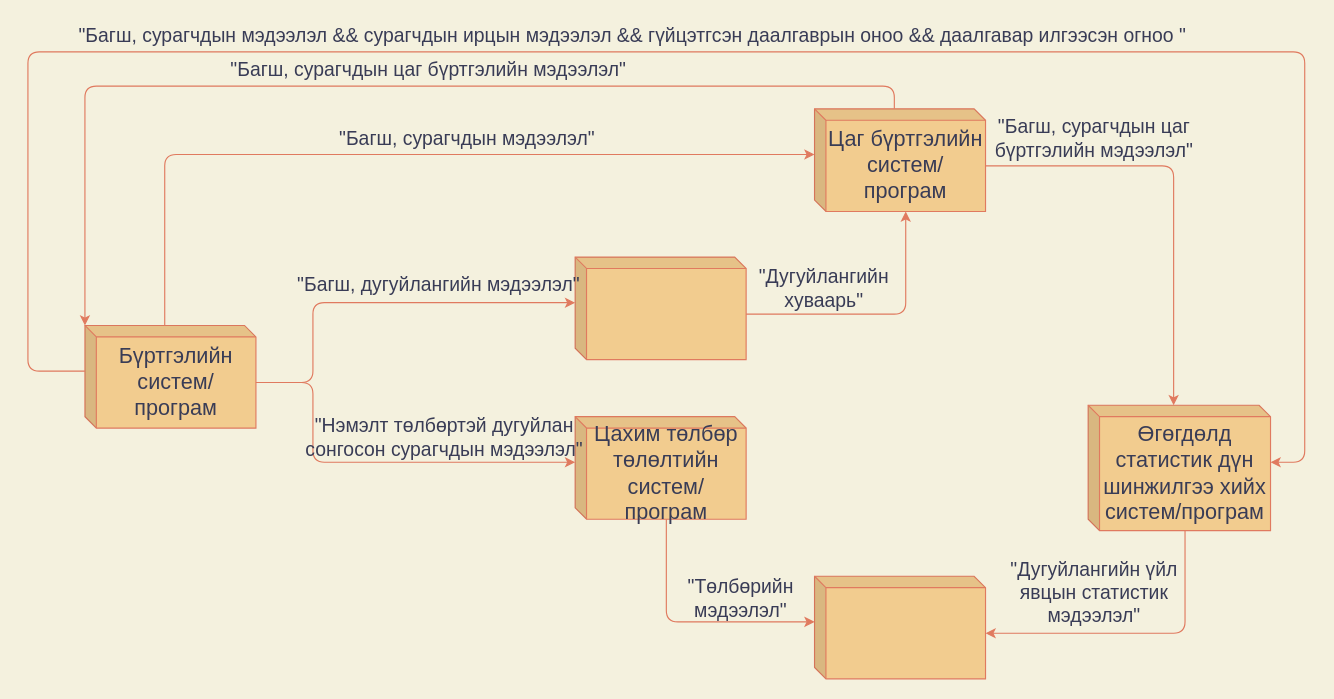
This 1334x699 diagram has some shape labels left out. The box of each missing label's shape, as (x1, y1, x2, y2) in pixels:
Санхүүгийн систем/програм: (813, 575, 986, 679)
Хуваарь зохиох систем/програм: (574, 256, 746, 360)
